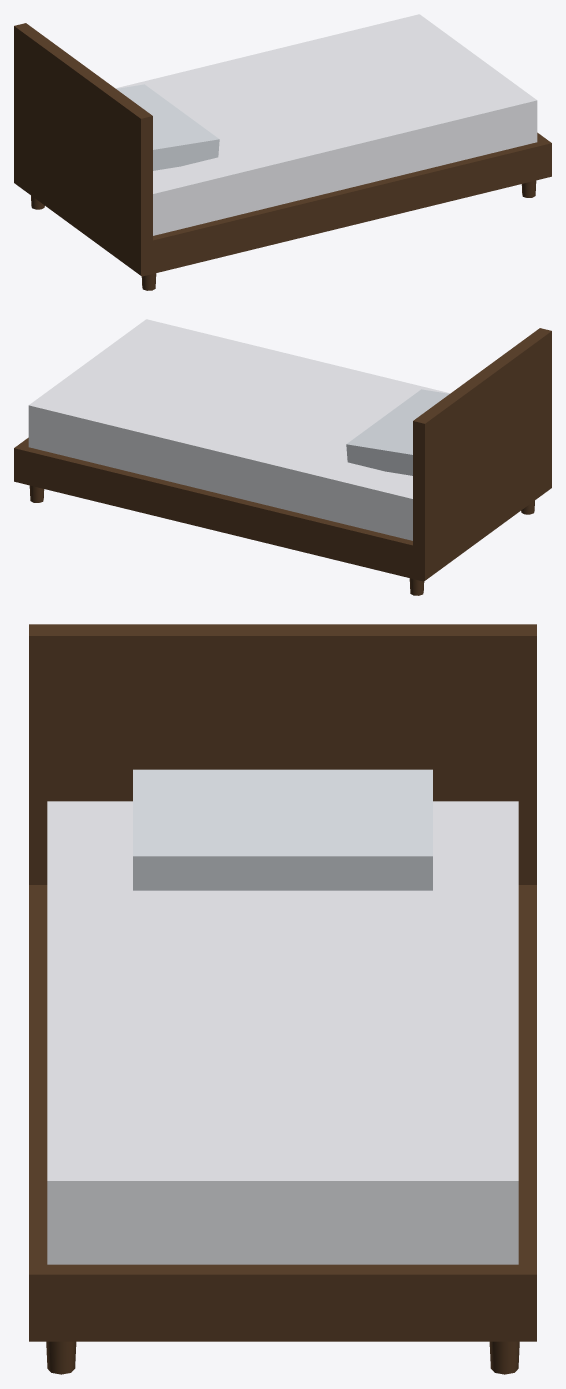
File: bed_single.glb
3 renders of one model, top to bottom at view 1: azimuth 30°, elevation 25°; view 2: azimuth 150°, elevation 25°; view 3: azimuth 270°, elevation 25°, orthographic. The views are drawn at different scales.
Visible parts, largest first — view 1: Bed; view 2: Bed; view 3: Bed.
Boxes of the visible parts, x1,y1,x2,y2 form: Bed: (14,14,551,290); Bed: (14,319,551,595); Bed: (29,624,536,1374).
Size of the model in its own units: 2.05 by 0.855 by 1.1.
